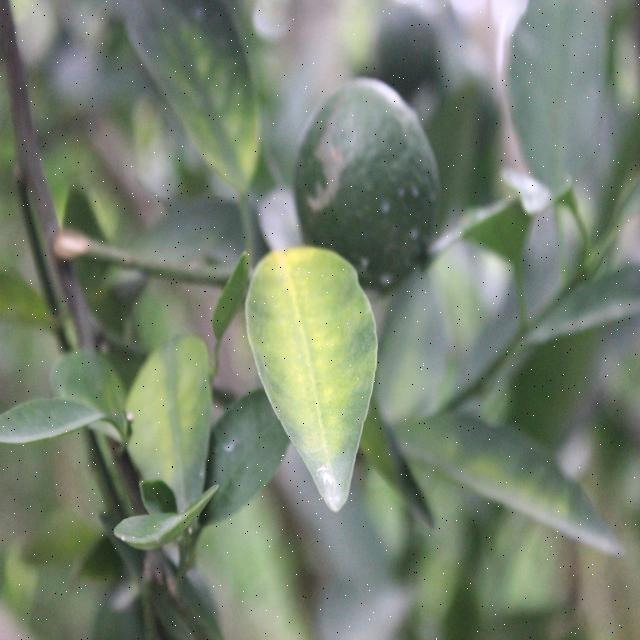greening: (247, 242, 381, 483), (147, 0, 277, 203), (121, 328, 214, 512)
